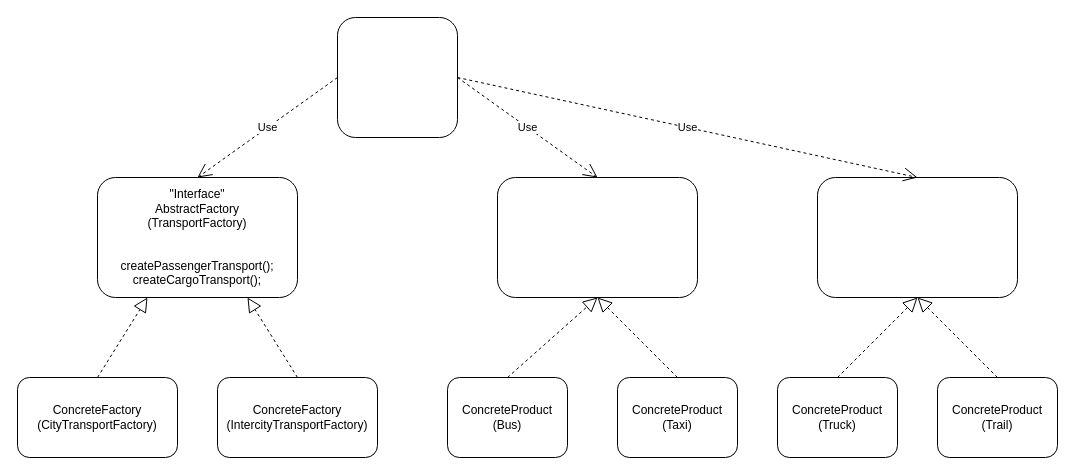
Image size: 1075x475. Some labels were removed from this diagram. Here are the shapes that lost their labels. From the top down, the box of each, then its label:
(336, 16, 458, 138): Client
(496, 176, 698, 298): "Interface" AbstractProduct (PassengerTransport) ride();
(816, 176, 1018, 298): "Interface" AbstractProduct (CargoTransport) deliver();
